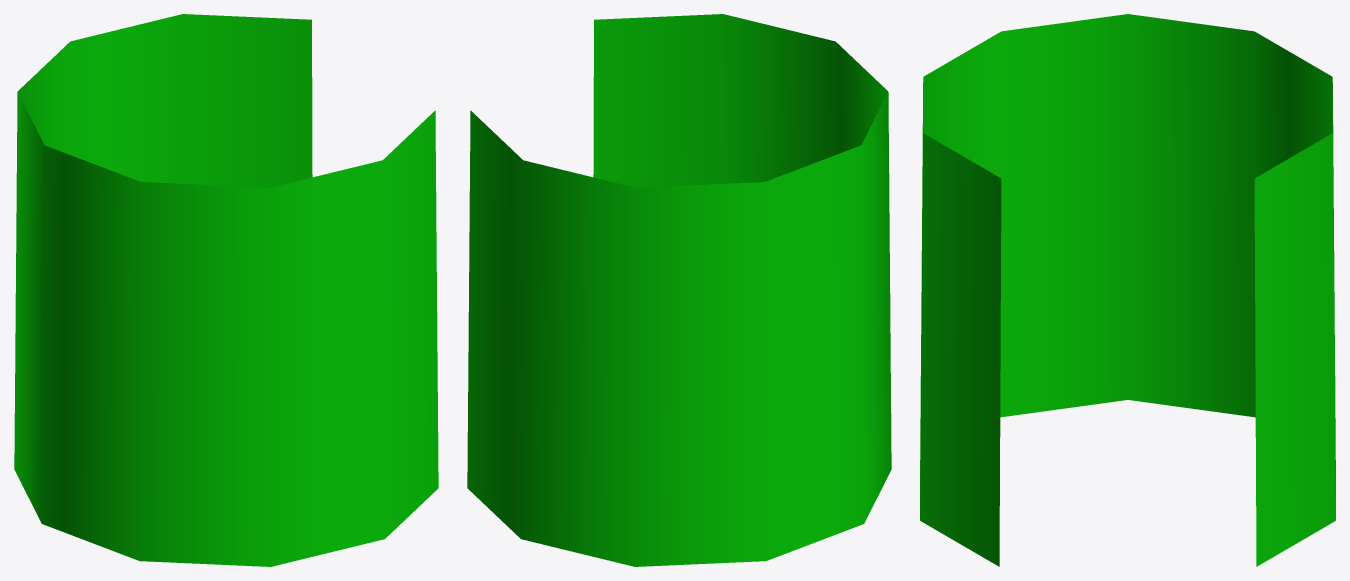
The model's file is Bottle_Stubby_Label_02.fbx.
The picture shows the model from 3 angles, left to right: view 1: azimuth 30°, elevation 25°; view 2: azimuth 150°, elevation 25°; view 3: azimuth 270°, elevation 25°; orthographic projection. The views are drawn at different scales.
Parts seen in each view (by area): view 1: Bottle_Stubby_Label_02; view 2: Bottle_Stubby_Label_02; view 3: Bottle_Stubby_Label_02.
Part boxes in pixels (x1,y1,x2,y2): Bottle_Stubby_Label_02: (14, 14, 438, 566); Bottle_Stubby_Label_02: (467, 14, 891, 566); Bottle_Stubby_Label_02: (920, 14, 1335, 566).
Size of the model in its own units: 36.44 by 39.38 by 38.32.
